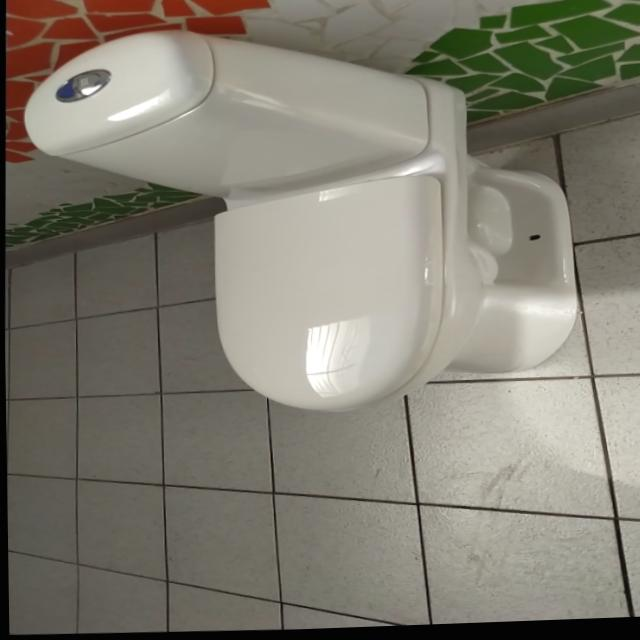toilet: (17, 15, 584, 428)
